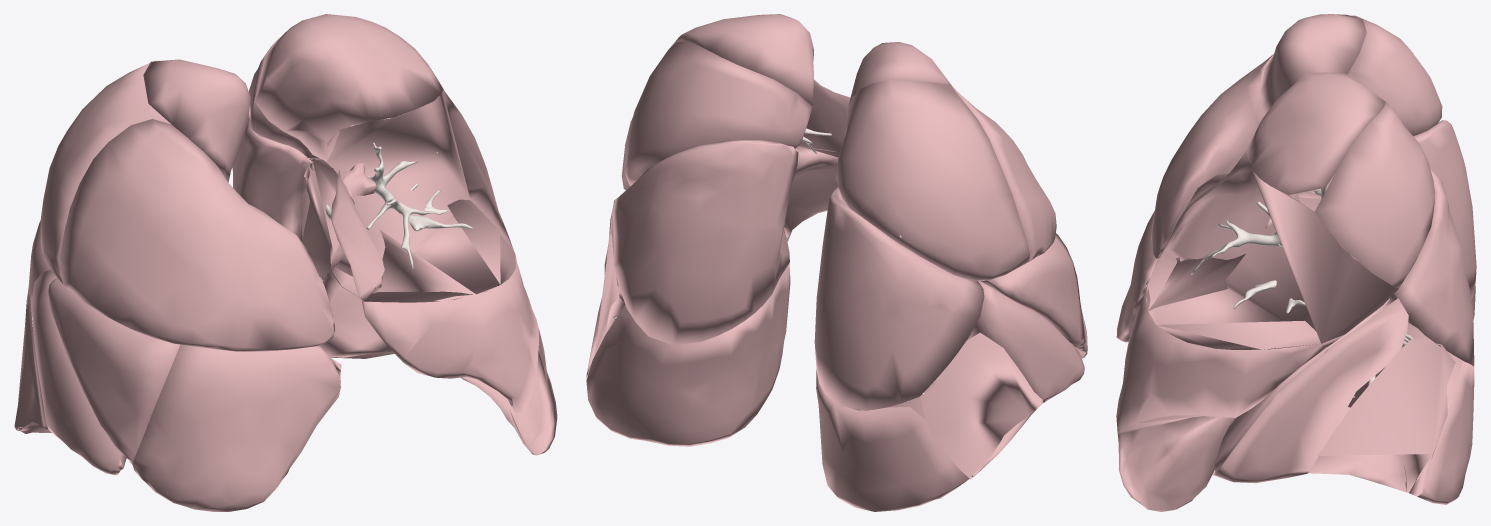
Rendered from 3d-vh-m-lung-40.glb.
The picture shows the model from 3 angles, left to right: view 1: azimuth 30°, elevation 25°; view 2: azimuth 150°, elevation 25°; view 3: azimuth 270°, elevation 25°; orthographic projection. The views are drawn at different scales.
Parts seen in each view (by area): view 1: VH_M_right_anterior_bronchopulmonary_segment, VH_M_right_medial_bronchopulmonary_segment, VH_M_left_anterior_bronchopulmonary_segment, VH_M_left_lingula_superior_bronchopulmonary_segment, VH_M_left_apical_bronchopulmonary_segment, VH_M_right_lateral_bronchopulmonary_segment, VH_M_right_posterior_bronchopulmonary_segment, VH_M_right_apical_bronchopulmonary_segment, VH_M_right_anterior_basal_bronchopulmonary_segment, VH_M_left_superior_bronchopulmonary_segment, VH_M_left_lingula_inferior_bronchopulmonary_segment, VH_M_hilum_L (+5 smaller); view 2: VH_M_left_superior_bronchopulmonary_segment, VH_M_right_posterior_bronchopulmonary_segment, VH_M_right_superior_bronchopulmonary_segment, VH_M_left_posetrior_basal_bronchopulmonary_segment, VH_M_left_posterior_bronchopulmonary_segment, VH_M_right_posterior_basal_bronchopulmonary_segment, VH_M_right_lateral_basal_bronchopulmonary_segment, VH_M_left_apical_bronchopulmonary_segment, VH_M_right_anterior_basal_bronchopulmonary_segment, VH_M_right_lateral_bronchopulmonary_segment, VH_M_right_anterior_bronchopulmonary_segment, VH_M_left_lingula_superior_bronchopulmonary_segment (+3 smaller); view 3: VH_M_left_anterior_bronchopulmonary_segment, VH_M_left_lingula_superior_bronchopulmonary_segment, VH_M_left_posterior_bronchopulmonary_segment, VH_M_left_anterior_basal_bronchopulmonary_segment, VH_M_left_lateral_basal_bronchopulmonary_segment, VH_M_left_apical_bronchopulmonary_segment, VH_M_right_anterior_bronchopulmonary_segment, VH_M_left_lingula_inferior_bronchopulmonary_segment, VH_M_left_superior_bronchopulmonary_segment, VH_M_right_posterior_bronchopulmonary_segment, VH_M_right_apical_bronchopulmonary_segment, VH_M_left_posetrior_basal_bronchopulmonary_segment (+4 smaller).
Part boxes in pixels (box(x1,y1,x2,y2)): VH_M_right_anterior_bronchopulmonary_segment: box(59, 119, 335, 351); VH_M_right_medial_bronchopulmonary_segment: box(128, 344, 341, 511); VH_M_left_anterior_bronchopulmonary_segment: box(326, 89, 515, 302); VH_M_left_lingula_superior_bronchopulmonary_segment: box(362, 199, 538, 413); VH_M_left_apical_bronchopulmonary_segment: box(254, 14, 443, 161); VH_M_right_lateral_bronchopulmonary_segment: box(48, 278, 180, 461); VH_M_right_posterior_bronchopulmonary_segment: box(40, 60, 170, 283); VH_M_right_apical_bronchopulmonary_segment: box(143, 59, 250, 182); VH_M_right_anterior_basal_bronchopulmonary_segment: box(31, 270, 126, 475); VH_M_left_superior_bronchopulmonary_segment: box(232, 106, 327, 239); VH_M_left_lingula_inferior_bronchopulmonary_segment: box(330, 245, 557, 455); VH_M_hilum_L: box(299, 159, 376, 277); VH_M_left_superior_bronchopulmonary_segment: box(613, 140, 798, 345); VH_M_right_posterior_bronchopulmonary_segment: box(836, 80, 1029, 280); VH_M_right_superior_bronchopulmonary_segment: box(814, 187, 984, 410); VH_M_left_posetrior_basal_bronchopulmonary_segment: box(586, 263, 790, 446); VH_M_left_posterior_bronchopulmonary_segment: box(624, 41, 812, 186); VH_M_right_posterior_basal_bronchopulmonary_segment: box(816, 370, 969, 511); VH_M_right_lateral_basal_bronchopulmonary_segment: box(873, 332, 1042, 479); VH_M_left_apical_bronchopulmonary_segment: box(669, 14, 813, 105); VH_M_right_anterior_basal_bronchopulmonary_segment: box(966, 280, 1084, 402); VH_M_right_lateral_bronchopulmonary_segment: box(981, 233, 1085, 346); VH_M_right_anterior_bronchopulmonary_segment: box(951, 85, 1056, 261); VH_M_left_lingula_superior_bronchopulmonary_segment: box(624, 146, 838, 239); VH_M_left_anterior_bronchopulmonary_segment: box(1146, 147, 1398, 349); VH_M_left_lingula_superior_bronchopulmonary_segment: box(1116, 253, 1383, 434); VH_M_left_posterior_bronchopulmonary_segment: box(1314, 102, 1434, 288); VH_M_left_anterior_basal_bronchopulmonary_segment: box(1212, 298, 1408, 483); VH_M_left_lateral_basal_bronchopulmonary_segment: box(1308, 338, 1455, 496); VH_M_left_apical_bronchopulmonary_segment: box(1247, 72, 1385, 194); VH_M_right_anterior_bronchopulmonary_segment: box(1151, 54, 1273, 258); VH_M_left_lingula_inferior_bronchopulmonary_segment: box(1118, 415, 1244, 511); VH_M_left_superior_bronchopulmonary_segment: box(1384, 168, 1474, 366); VH_M_right_posterior_bronchopulmonary_segment: box(1347, 15, 1442, 135); VH_M_right_apical_bronchopulmonary_segment: box(1260, 14, 1366, 113); VH_M_left_posetrior_basal_bronchopulmonary_segment: box(1324, 322, 1474, 504).
Bounding box in the file's own units: 0.2595 × 0.2293 × 0.1897.
